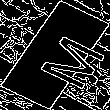M_NW: (15, 22, 95, 88)
